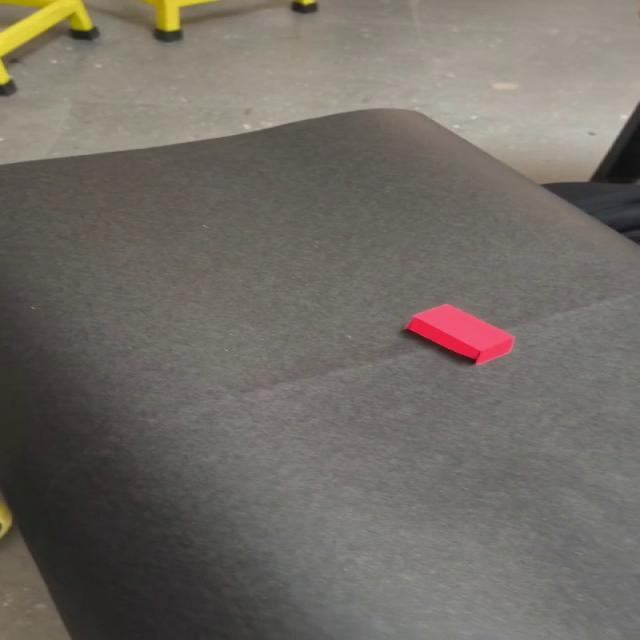red block: (404, 303, 515, 365)
